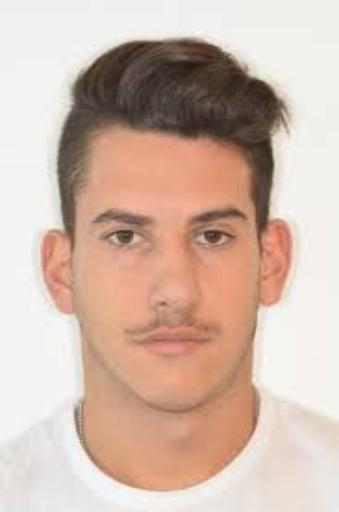left_eye: (192, 228, 239, 253)
left_lip_corner: (195, 332, 217, 351)
right_eye: (98, 227, 151, 254)
right_lip_corner: (130, 334, 154, 355)
